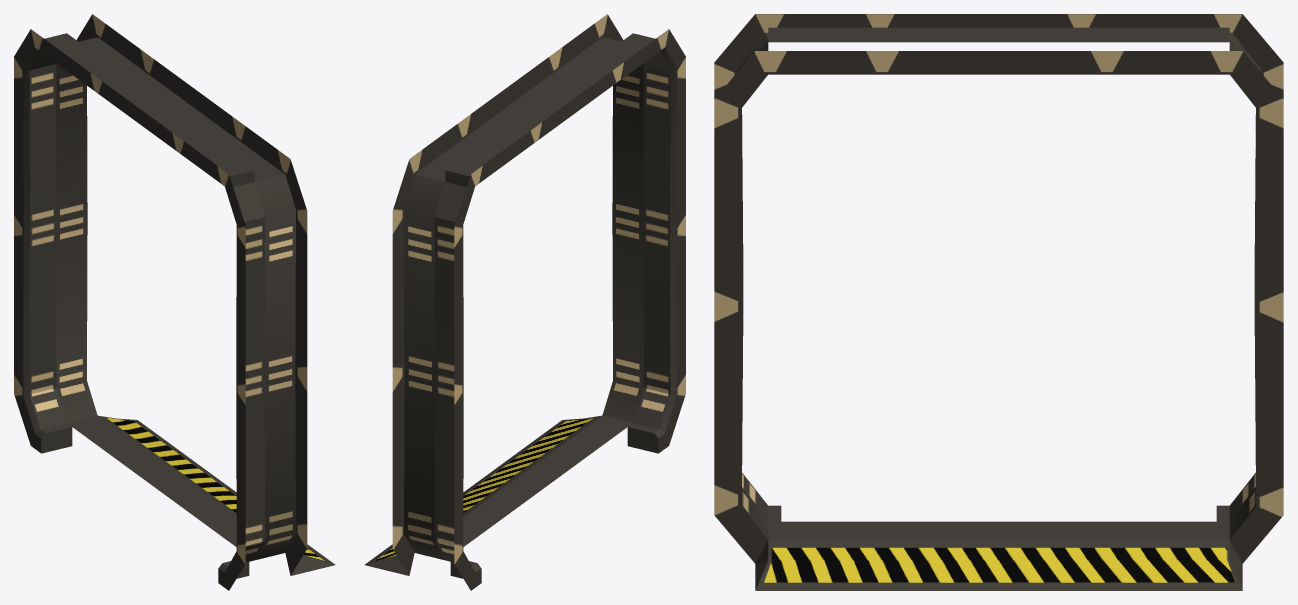
Rendered from Doorways_2.FBX.
The picture shows the model from 3 angles, left to right: view 1: azimuth 30°, elevation 25°; view 2: azimuth 150°, elevation 25°; view 3: azimuth 270°, elevation 25°; orthographic projection. The views are drawn at different scales.
Visible parts, largest first — view 1: DoorWay, DoorWay_WithDoor; view 2: DoorWay, DoorWay_WithDoor; view 3: DoorWay, DoorWay_WithDoor.
Part boxes in pixels (x1,y1,x2,y2): DoorWay: [56, 14, 335, 575]; DoorWay_WithDoor: [14, 29, 265, 590]; DoorWay: [364, 14, 643, 575]; DoorWay_WithDoor: [434, 29, 685, 590]; DoorWay: [714, 51, 1283, 590]; DoorWay_WithDoor: [714, 14, 1283, 521].
Bounding box in the file's own units: 1.09 × 4.06 × 4.09.
1 material, 1 textured.
